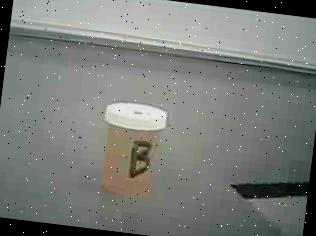Bottle B: (90, 96, 177, 204)
